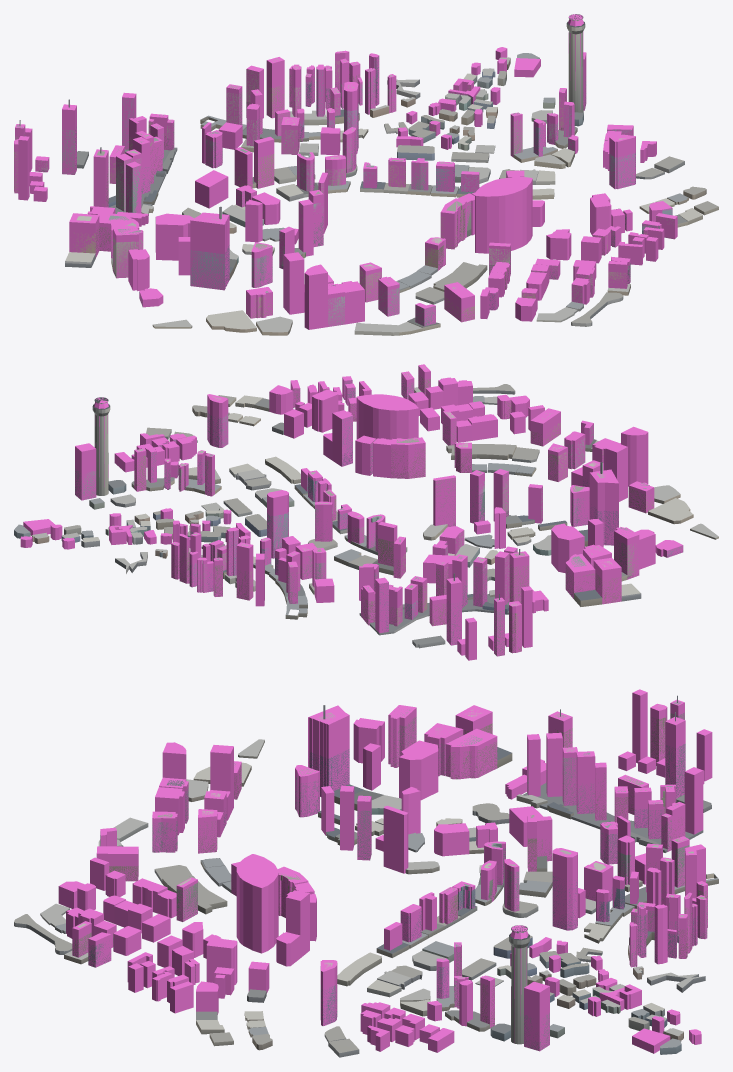
File: bld_12_8.fbx
3 views of the same model, one above another, from view 1: azimuth 30°, elevation 25°; view 2: azimuth 150°, elevation 25°; view 3: azimuth 270°, elevation 25° (orthographic). The views are drawn at different scales.
Visible parts, largest first — view 1: bld_12_8_COL, bld_12_8_LOD0; view 2: bld_12_8_COL, bld_12_8_LOD0; view 3: bld_12_8_COL, bld_12_8_LOD0.
Boxes of the visible parts, x1,y1,x2,y2 form: bld_12_8_COL: [14, 14, 677, 329]; bld_12_8_LOD0: [14, 14, 718, 335]; bld_12_8_COL: [20, 364, 683, 660]; bld_12_8_LOD0: [14, 367, 718, 655]; bld_12_8_COL: [58, 689, 712, 1053]; bld_12_8_LOD0: [14, 695, 718, 1057].
Size of what is drawn, in the model's own units: 2091 by 342 by 1955.
